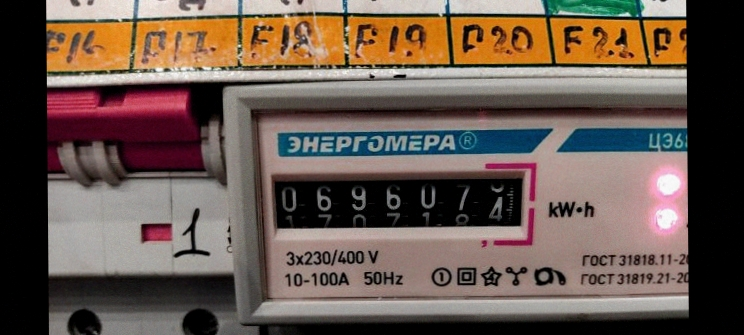0: (417, 180, 437, 210), (278, 184, 297, 212)
4: (486, 194, 503, 222)
6: (313, 182, 333, 211), (382, 182, 402, 211)
7: (453, 181, 471, 211)
9: (348, 183, 366, 211)
screen: (256, 155, 542, 246)
